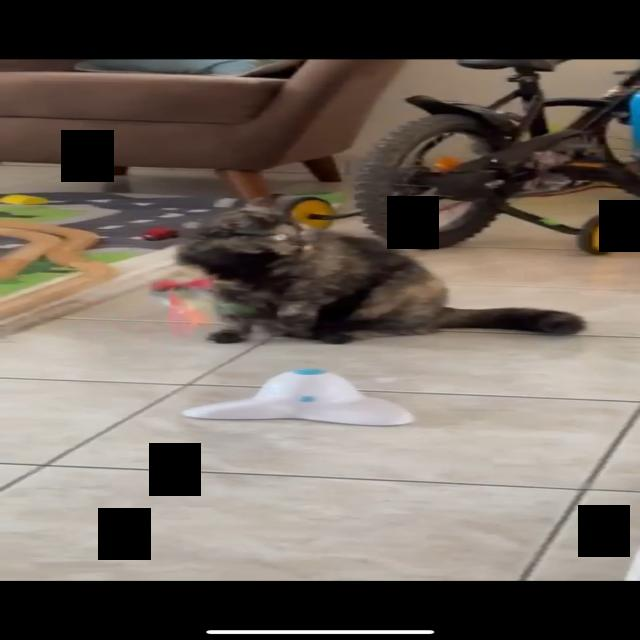authorized: (173, 193, 586, 345)
